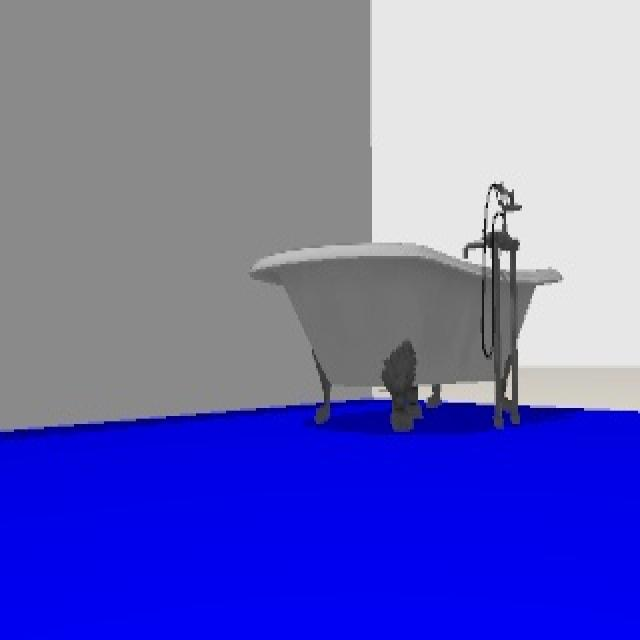bathtub: (248, 176, 560, 429)
